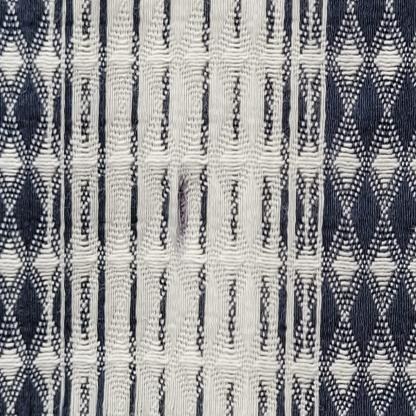spot: (172, 157, 194, 254)
